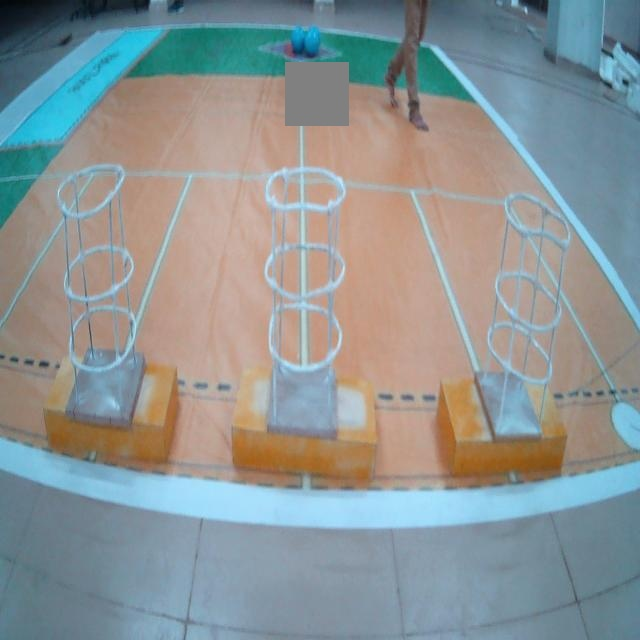silo: (57, 167, 135, 424), (269, 168, 344, 434), (478, 193, 542, 443)
